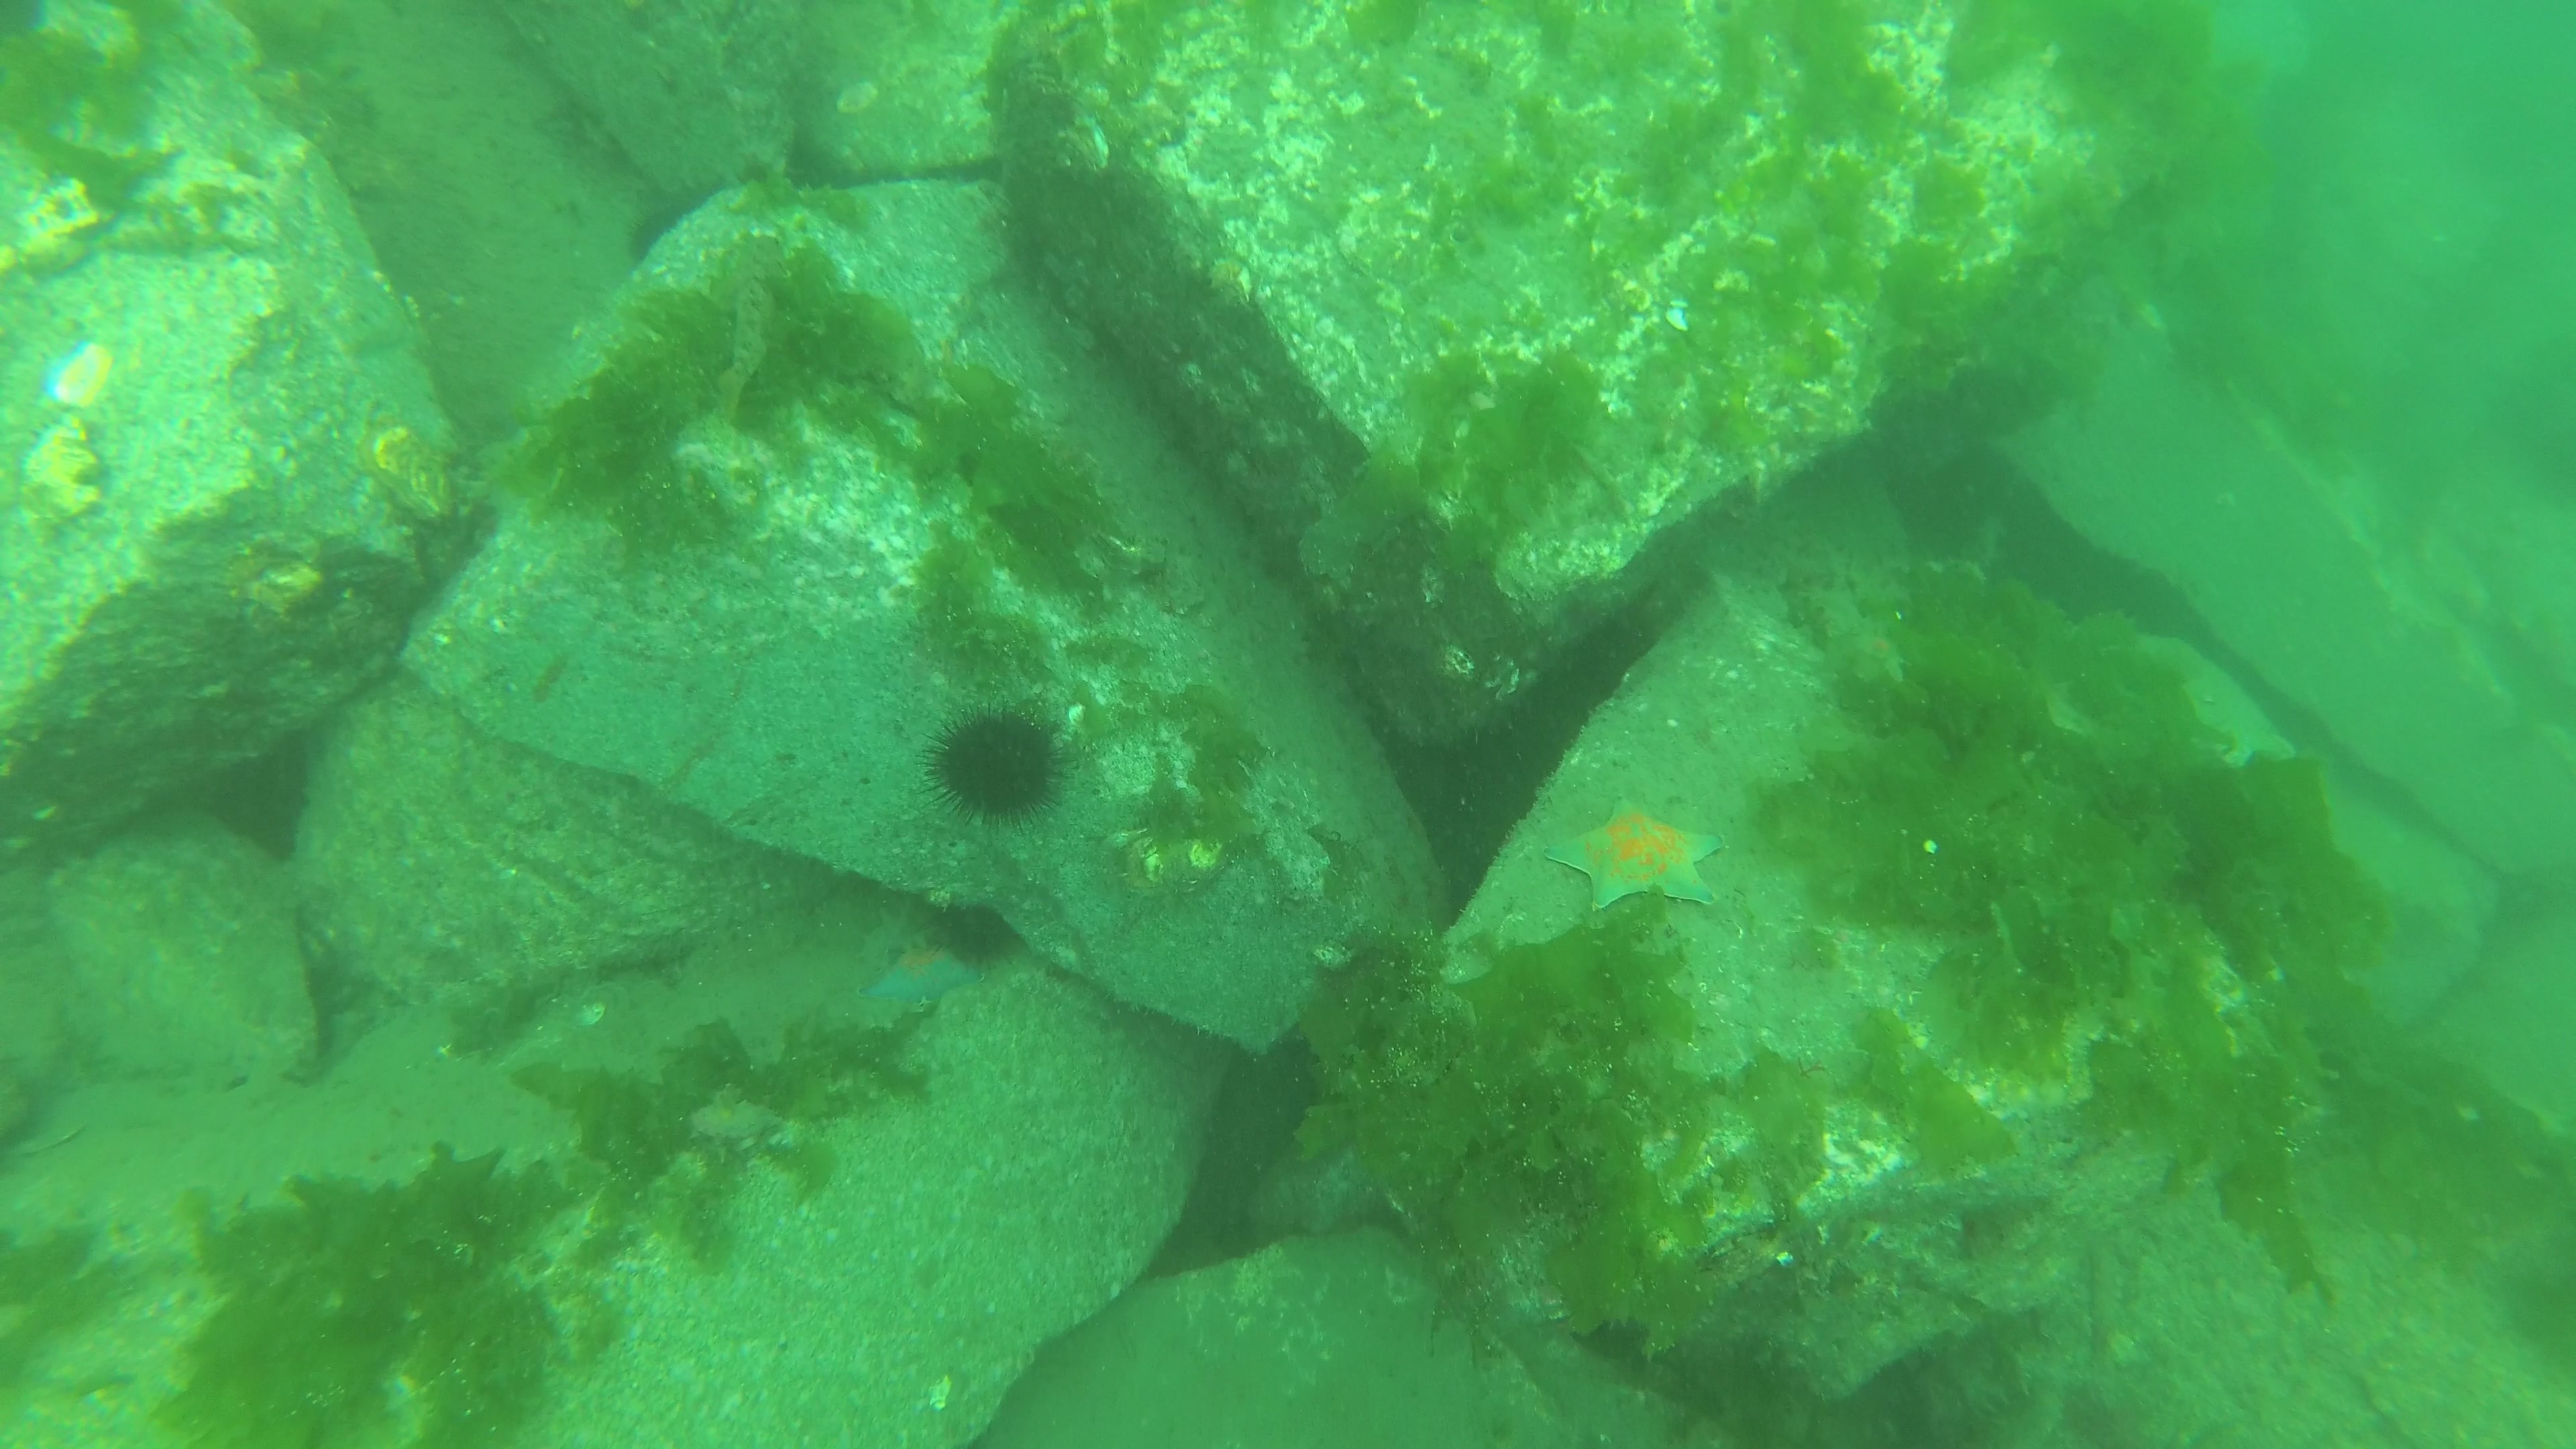echinus: (913, 701, 1079, 835), (623, 179, 724, 267), (925, 902, 1017, 971)
holothurian: (688, 1081, 786, 1143), (856, 899, 929, 971)
starfish: (1536, 791, 1727, 915), (856, 941, 989, 1007)
